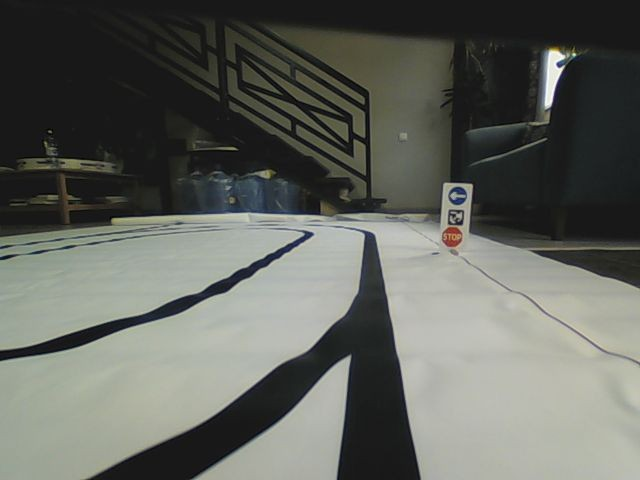Stop: (441, 225, 464, 248)
